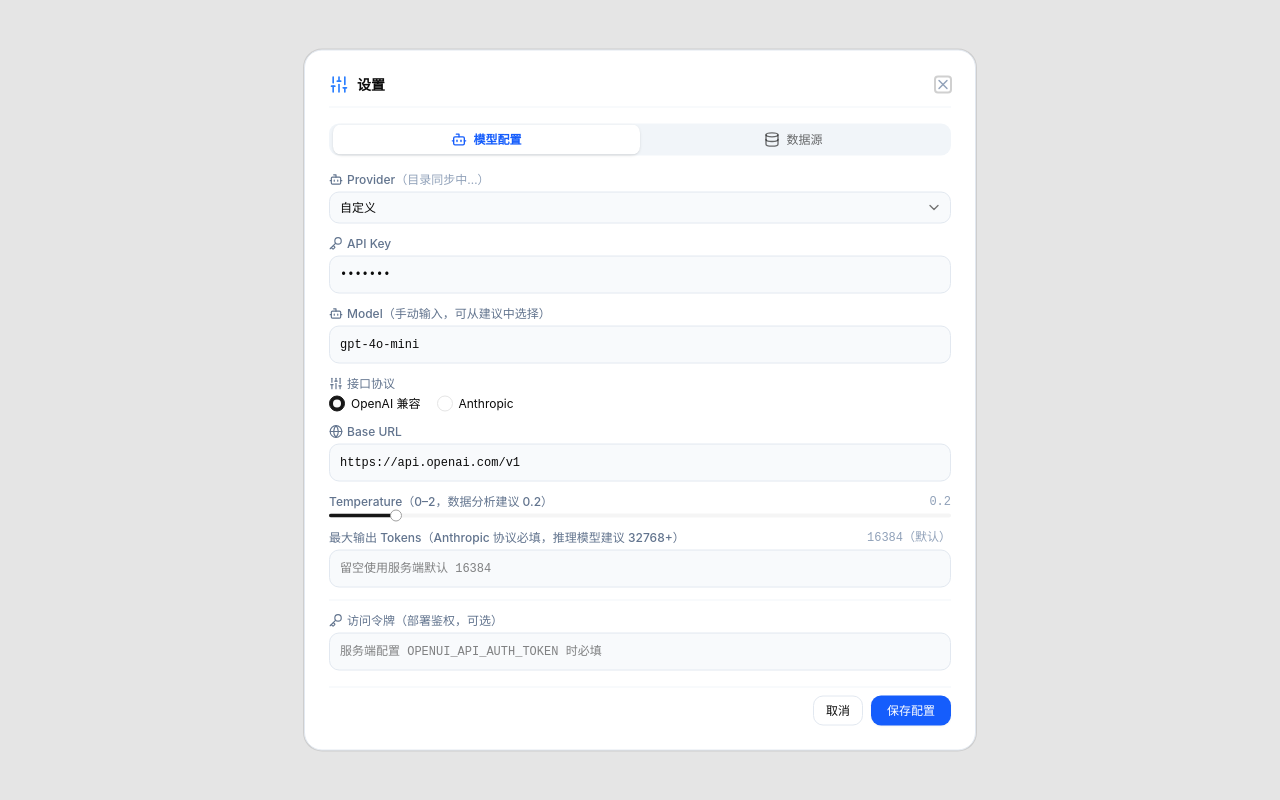
Test: SettingsModal tab 布局 › 焦点移入「数据源」tab 自动激活面板（Radix Tabs 自动激活模式）
Focus the tab "数据源": [794, 140] box left=640, top=124, right=947, bottom=154
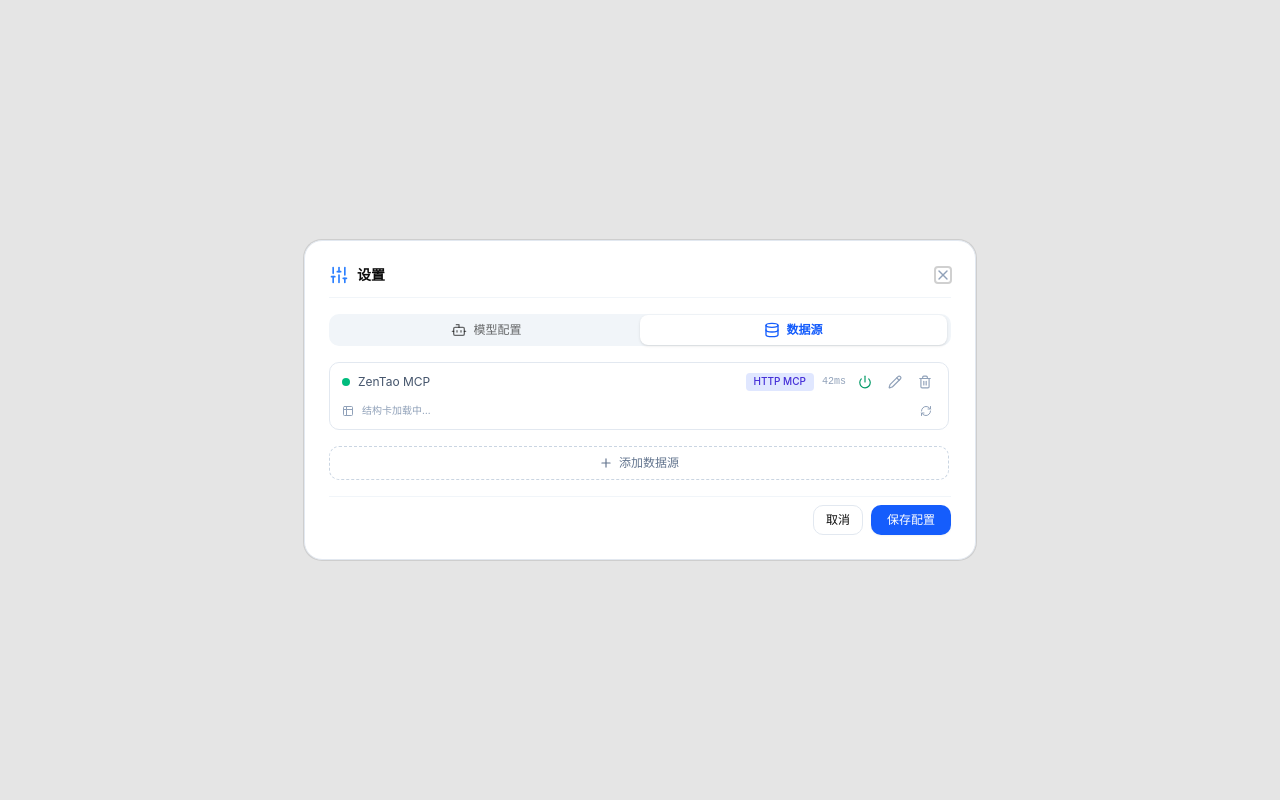
Check: the button "添加数据源" is shown, box left=329, top=446, right=949, bottom=480
